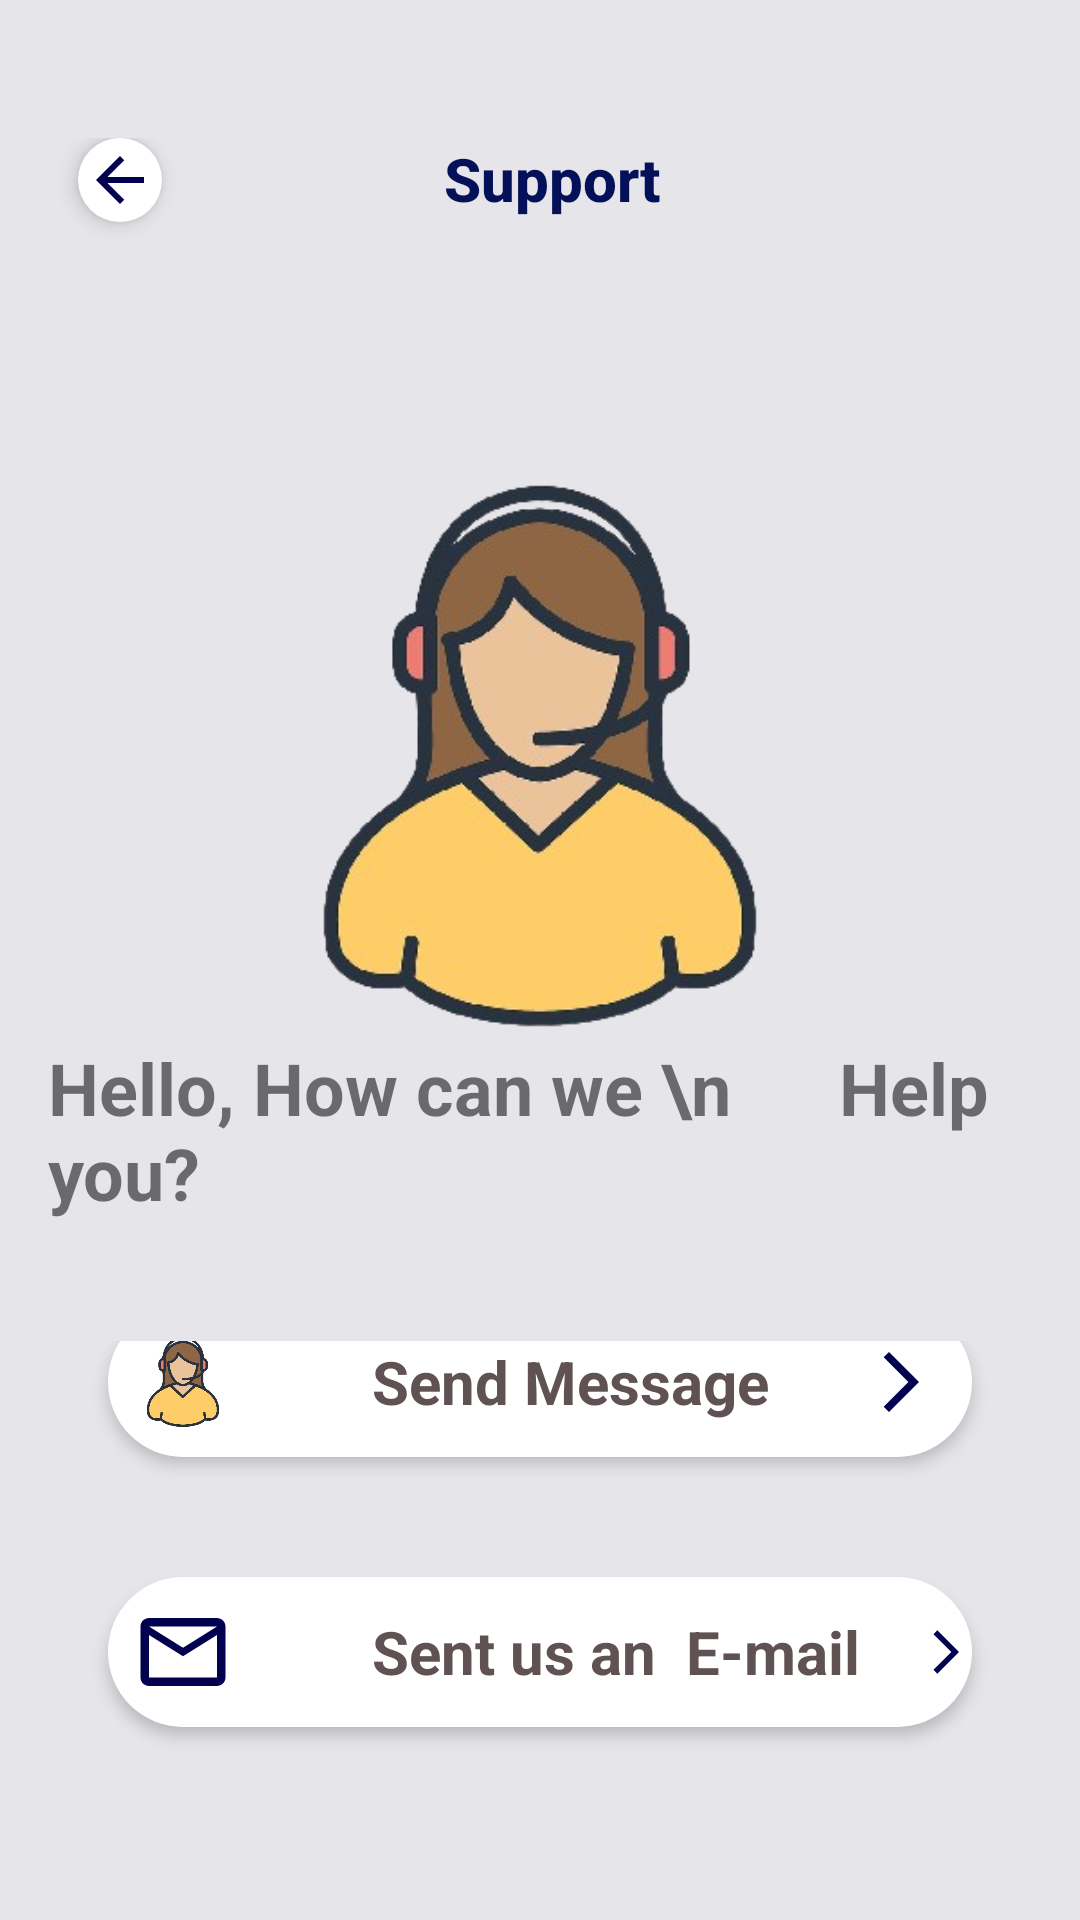

Locate icon controls on the screen. Image size 1080w x 1920h, boxes as (x1, y1, x2, y2).
arrow back: (78, 138, 162, 222)
arrow forward: (884, 1352, 919, 1412), (933, 1630, 959, 1674)
